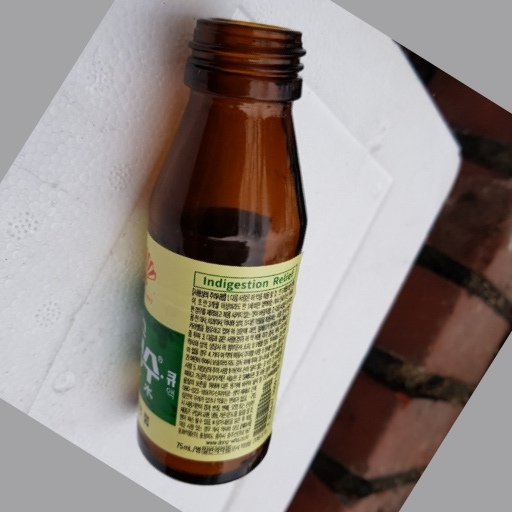Glass_3: (140, 17, 308, 483)
